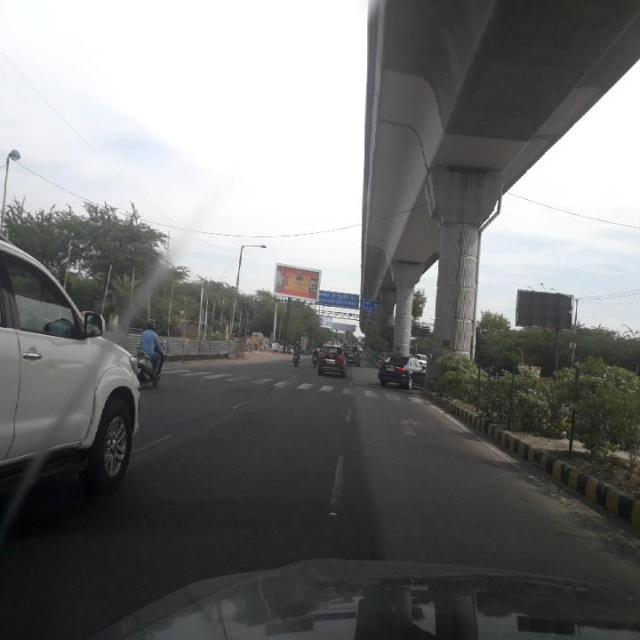D20: (161, 409, 255, 476)
